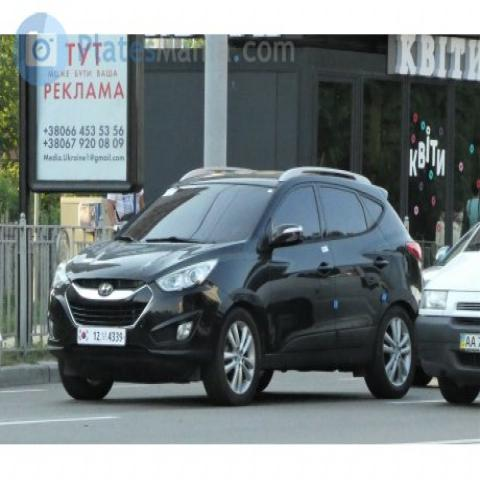LP: (72, 317, 129, 351)
